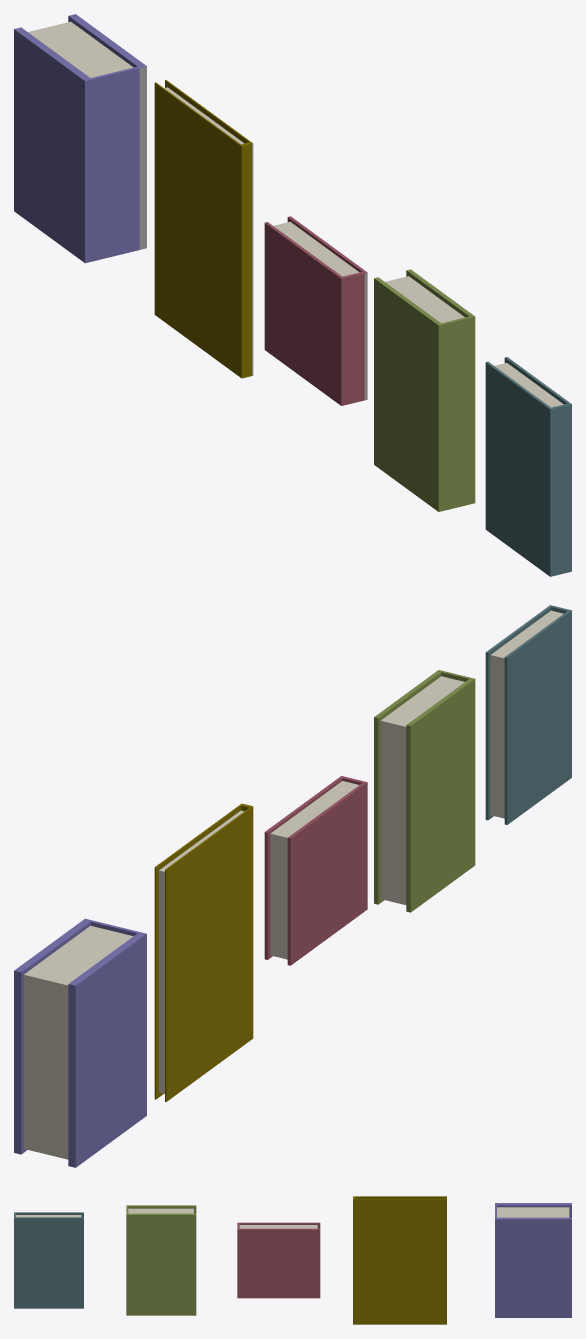
The model's file is books.fbx.
3 views of the same model, one above another, from view 1: azimuth 30°, elevation 25°; view 2: azimuth 150°, elevation 25°; view 3: azimuth 270°, elevation 25° (orthographic). The views are drawn at different scales.
Visible parts, largest first — view 1: backAndPages (×5), frontCover (×5); view 2: backAndPages (×5), frontCover (×5); view 3: frontCover (×5), backAndPages (×5).
Part boxes in pixels (bbox=[...]): backAndPages (×5): bbox=[14, 21, 569, 576]; frontCover (×5): bbox=[68, 14, 571, 572]; backAndPages (×5): bbox=[23, 606, 571, 1167]; frontCover (×5): bbox=[14, 605, 552, 1154]; frontCover (×5): bbox=[14, 1199, 571, 1324]; backAndPages (×5): bbox=[14, 1196, 571, 1228].
Size of the model in its own units: 0.5472 by 1.96 by 7.92.
